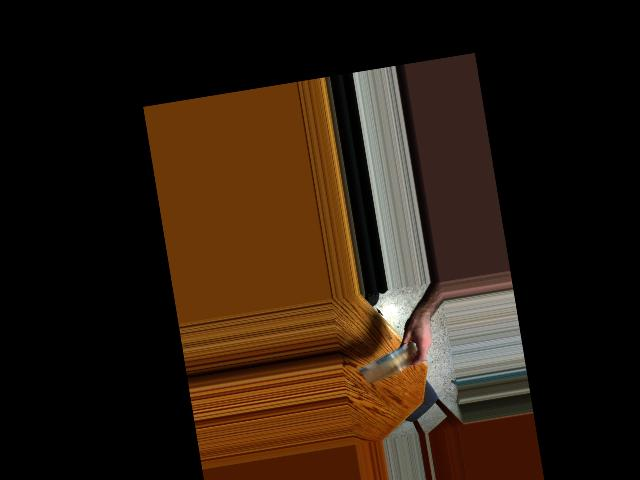cheese: (355, 346, 427, 381)
